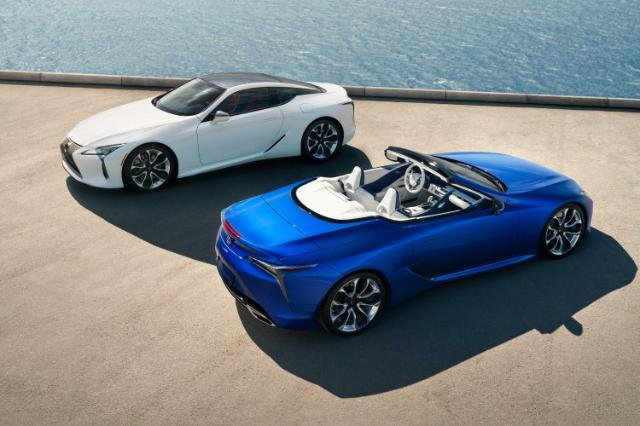lexus: (214, 146, 594, 338), (60, 71, 356, 196)
